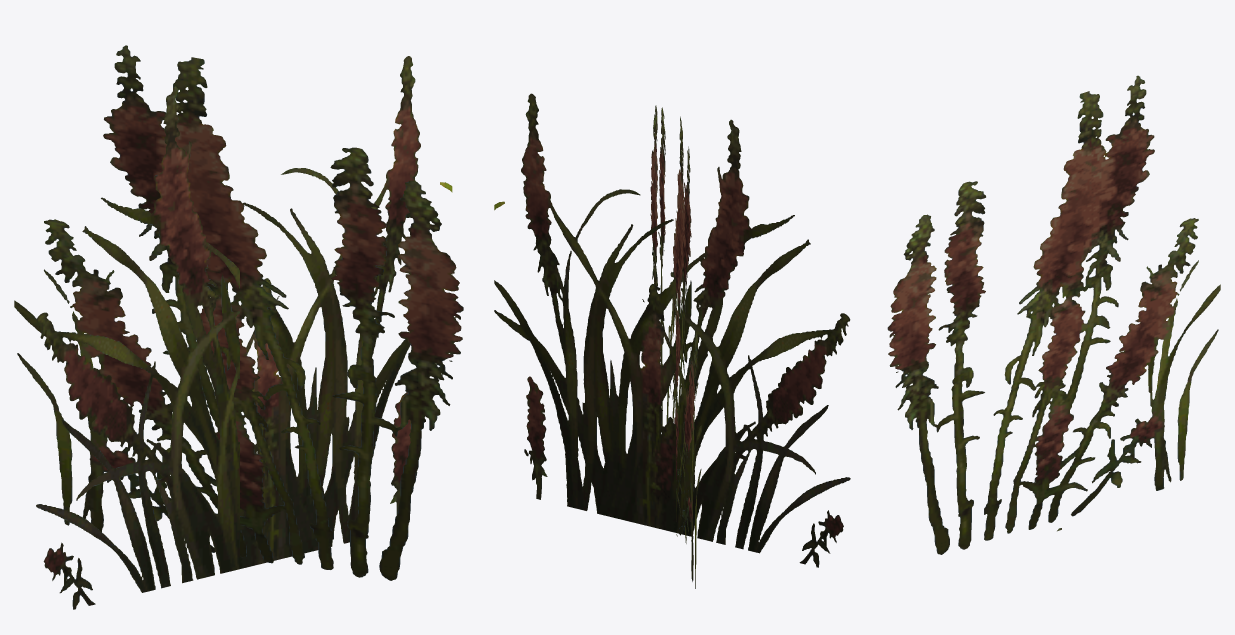
File: dx_huacao_2.FBX
The picture shows the model from 3 angles, left to right: view 1: azimuth 30°, elevation 25°; view 2: azimuth 150°, elevation 25°; view 3: azimuth 270°, elevation 25°; orthographic projection. The views are drawn at different scales.
Visible parts, largest first — view 1: dx_huacao_2; view 2: dx_huacao_2; view 3: dx_huacao_2.
Part boxes in pixels (x1,y1,x2,y2): dx_huacao_2: [14, 45, 463, 609]; dx_huacao_2: [494, 93, 850, 588]; dx_huacao_2: [887, 75, 1220, 554].
Bounding box in the file's own units: 227 × 257 × 181.
